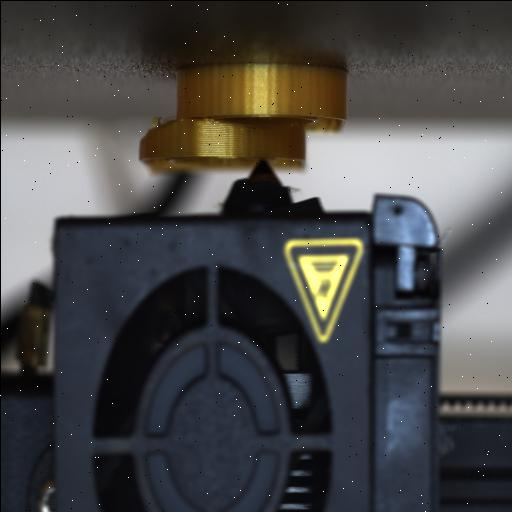layer_shift: (150, 112, 350, 143)
